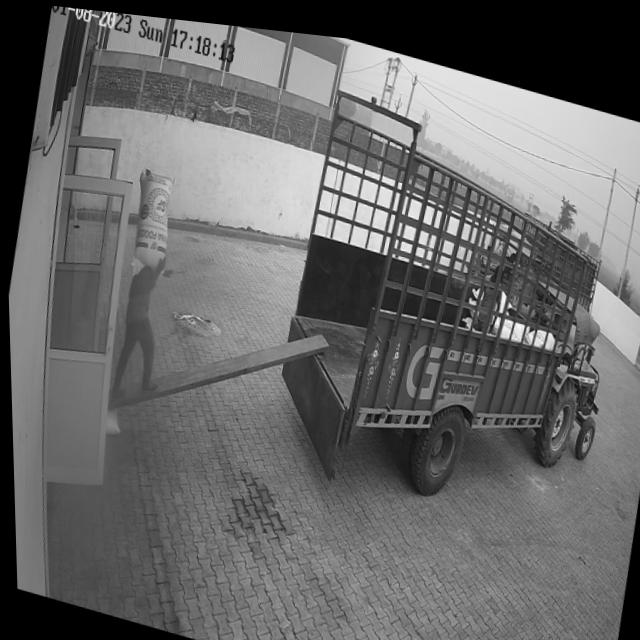sack: (121, 161, 179, 280)
